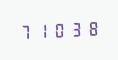eight: (82, 18, 97, 37)
one: (34, 21, 49, 40)
seven: (18, 22, 33, 41)
three: (66, 19, 81, 38)
zero: (50, 20, 65, 39)
